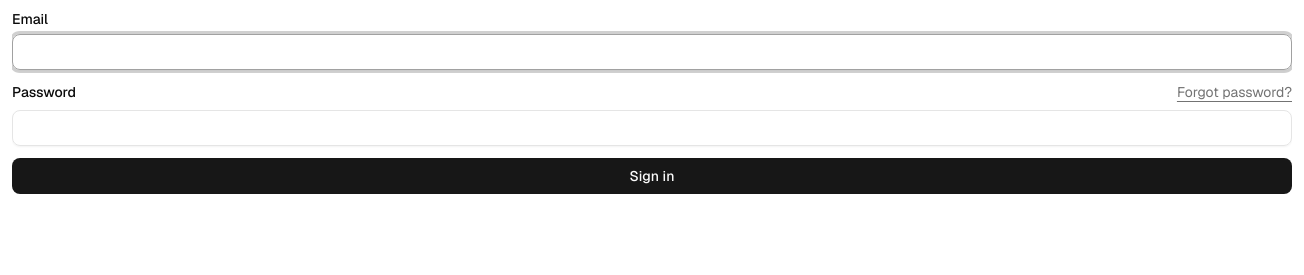
Test case: EmailPasswordSignInForm › surfaces invalid credentials generically
Type "a@b.com" into the field labelled "Email" at [652, 52], box left=12, top=34, right=1292, bottom=70
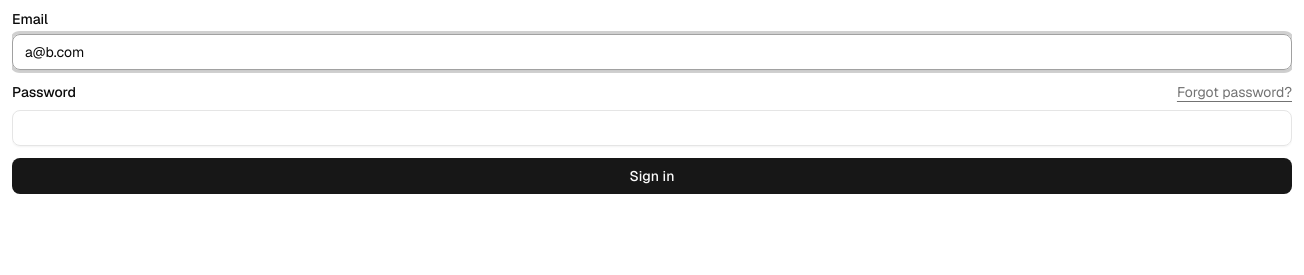
Type "password1" into the password field labelled "Password" at [652, 128], box left=12, top=110, right=1292, bottom=146
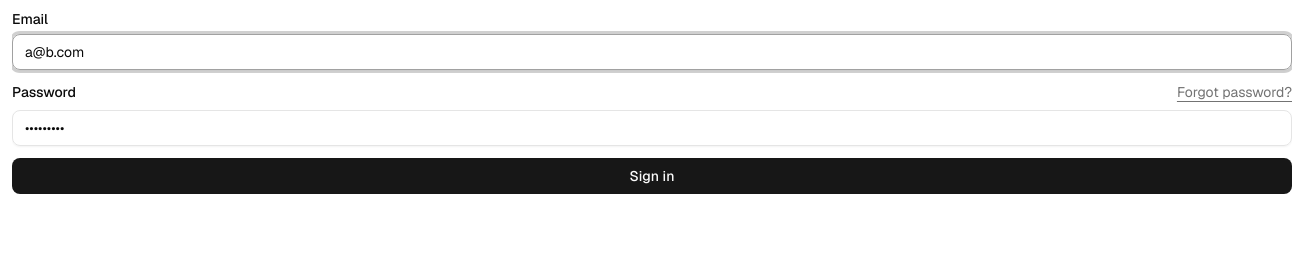
Click the button "Sign in" at [652, 176], box left=12, top=158, right=1292, bottom=194
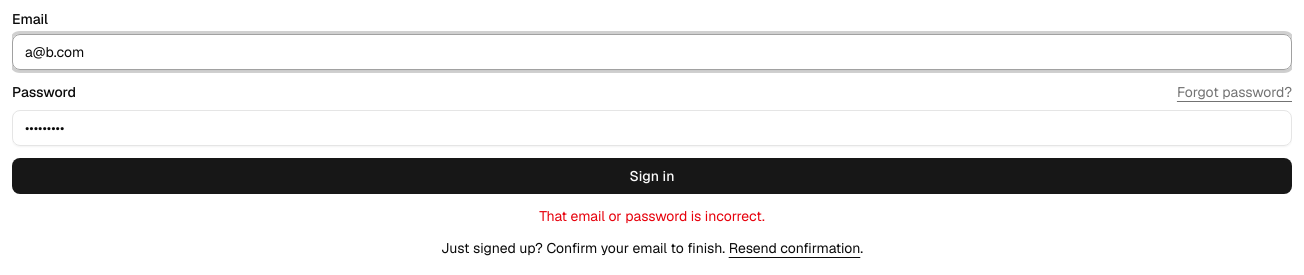
expect the message shows "incorrect": met, box left=539, top=207, right=765, bottom=225
